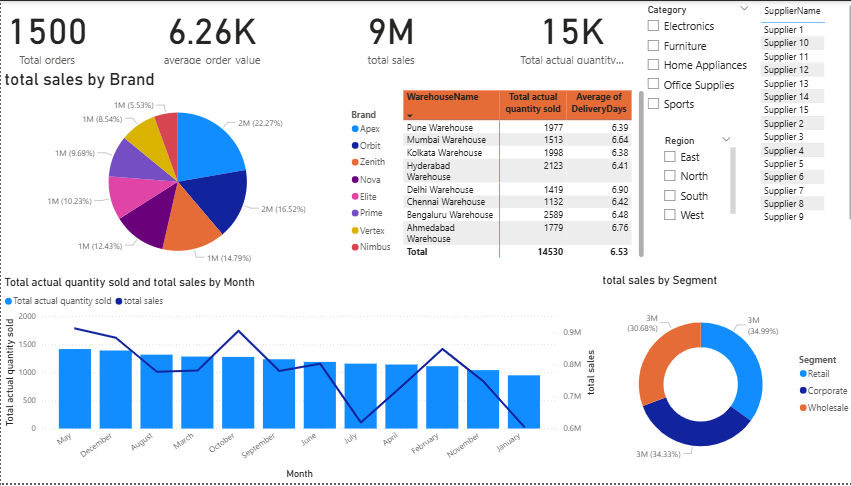

This screenshot's page, from the dashboard's own definition file:
{"tool":"powerbi","page":{"name":"qn3/product performancr anaylsis","canvas":[1280,720],"ordinal":2},"visuals":[{"type":"card","fields":{"Values":["Orders (1).Total orders"]},"box":[0,0,143.3,136.7],"z":0},{"type":"card","fields":{"Values":["Product.total sales"]},"box":[308.3,0,118.3,136.7],"z":1000},{"type":"card","fields":{"Values":["Orders (1).Total quantity sold"]},"box":[413.3,0,153.3,136.7],"z":2000},{"type":"card","fields":{"Values":["Orders (1).average_order_value"]},"box":[143.3,0,165,136.7],"z":3000},{"type":"lineClusteredColumnComboChart","fields":{"Category":["Product.Category"],"Y":["Product.total sales"]},"box":[566.7,0,713.3,360],"z":4000},{"type":"pieChart","fields":{"Category":["Product.Brand"],"Y":["Product.total sales"]},"box":[0,411.7,566.7,308.3],"z":5000},{"type":"funnel","fields":{"Category":["Product.ProductName"],"Y":["Product.total sales"]},"box":[566.7,360,713.3,360],"z":6000},{"type":"textbox","box":[0,136.7,566.7,275],"z":7000}]}

Visuals, with their boxes in screenshot pixels (x1, y1, x2, y2), scaled from the page's 1280x720 canvas onto the 851x486 screenshot:
card - Orders (1).Total orders: BBox(0, 0, 95, 92)
card - Product.total sales: BBox(205, 0, 284, 92)
card - Orders (1).Total quantity sold: BBox(275, 0, 377, 92)
card - Orders (1).average_order_value: BBox(95, 0, 205, 92)
lineClusteredColumnComboChart - Product.Category x Product.total sales: BBox(377, 0, 850, 243)
pieChart - Product.Brand x Product.total sales: BBox(0, 278, 377, 485)
funnel - Product.ProductName x Product.total sales: BBox(377, 243, 850, 485)
textbox: BBox(0, 92, 377, 278)
